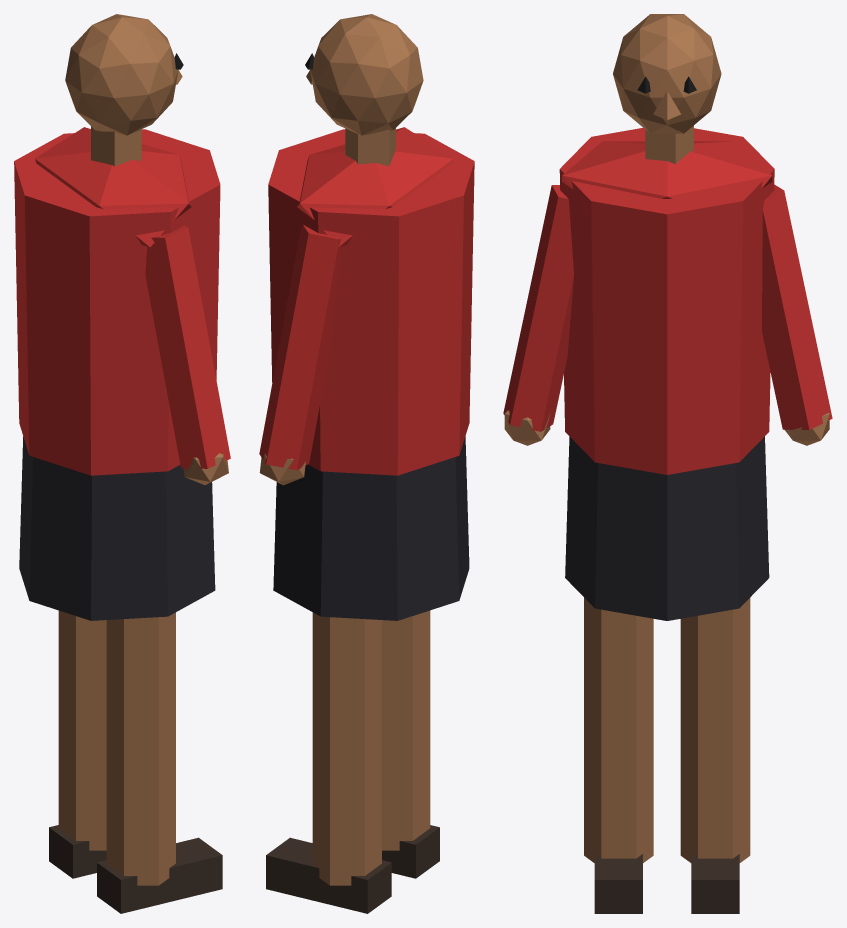
The model's file is barn_1.glb.
3 views of the same model, side by side, from view 1: azimuth 30°, elevation 25°; view 2: azimuth 150°, elevation 25°; view 3: azimuth 270°, elevation 25° (orthographic).
Parts seen in each view (by area): view 1: barn_1; view 2: barn_1; view 3: barn_1.
Boxes of the visible parts, <box> form: barn_1: <box>14,14,230,913</box>; barn_1: <box>259,14,474,913</box>; barn_1: <box>503,14,832,913</box>.
Size of the model in its own units: 0.2857 by 1.27 by 0.4377.
